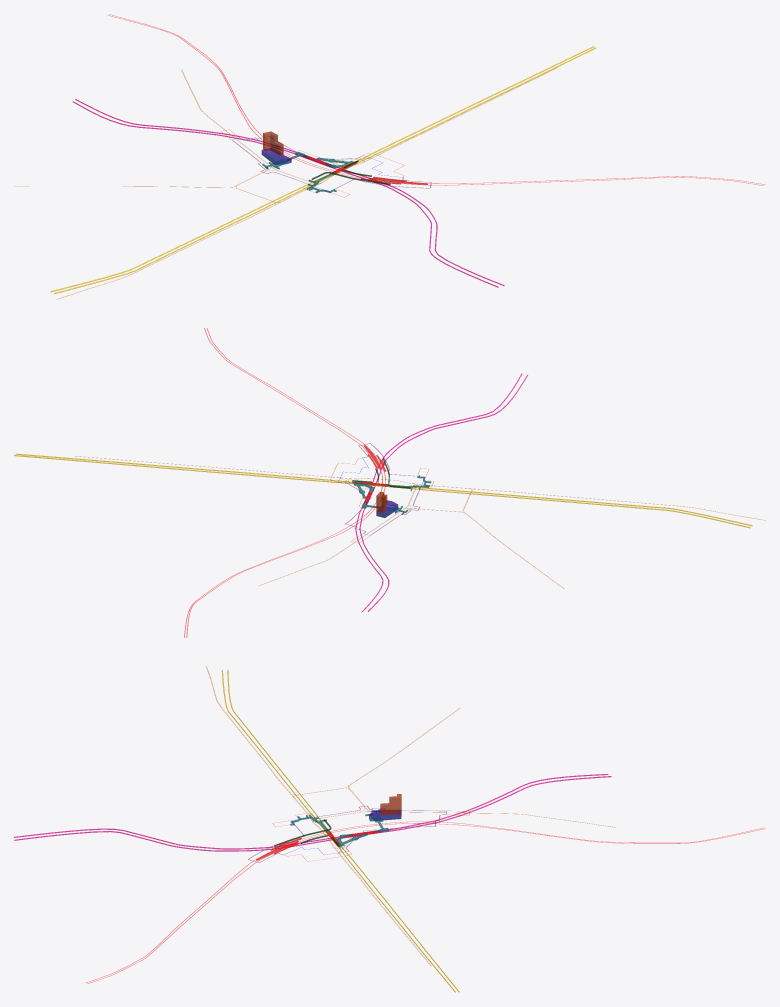
Rendered from MODEL_LAYERS.fbx.
The picture shows the model from 3 angles, top to bottom: view 1: azimuth 30°, elevation 25°; view 2: azimuth 150°, elevation 25°; view 3: azimuth 270°, elevation 25°; orthographic projection. The views are drawn at different scales.
Visible parts, largest first — view 1: L_AM_Subway_Line_Av, L_AM_Subway_Line_Av_n, L_RZD_Line, L_AM_NGPT_Way, L_AM_SubwayUndeground; view 2: L_AM_Subway_Line_Av, L_AM_Subway_Line_Av_n, L_RZD_Line, L_AM_NGPT_Way; view 3: L_AM_Subway_Line_Av_n, L_RZD_Line, L_AM_Subway_Line_Av, L_AM_NGPT_Way.
Part boxes in pixels (x1,y1,x2,y2): L_AM_Subway_Line_Av: [50, 46, 595, 293]; L_AM_Subway_Line_Av_n: [72, 99, 504, 287]; L_RZD_Line: [108, 14, 765, 185]; L_AM_NGPT_Way: [14, 67, 557, 299]; L_AM_SubwayUndeground: [262, 152, 356, 193]; L_AM_Subway_Line_Av: [14, 453, 752, 528]; L_AM_Subway_Line_Av_n: [355, 373, 527, 611]; L_RZD_Line: [184, 328, 385, 637]; L_AM_NGPT_Way: [75, 456, 765, 588]; L_AM_Subway_Line_Av_n: [14, 774, 611, 851]; L_RZD_Line: [86, 821, 765, 983]; L_AM_Subway_Line_Av: [221, 670, 459, 992]; L_AM_NGPT_Way: [206, 666, 615, 965].
Size of the model in its own units: 3259 by 109 by 3190.
